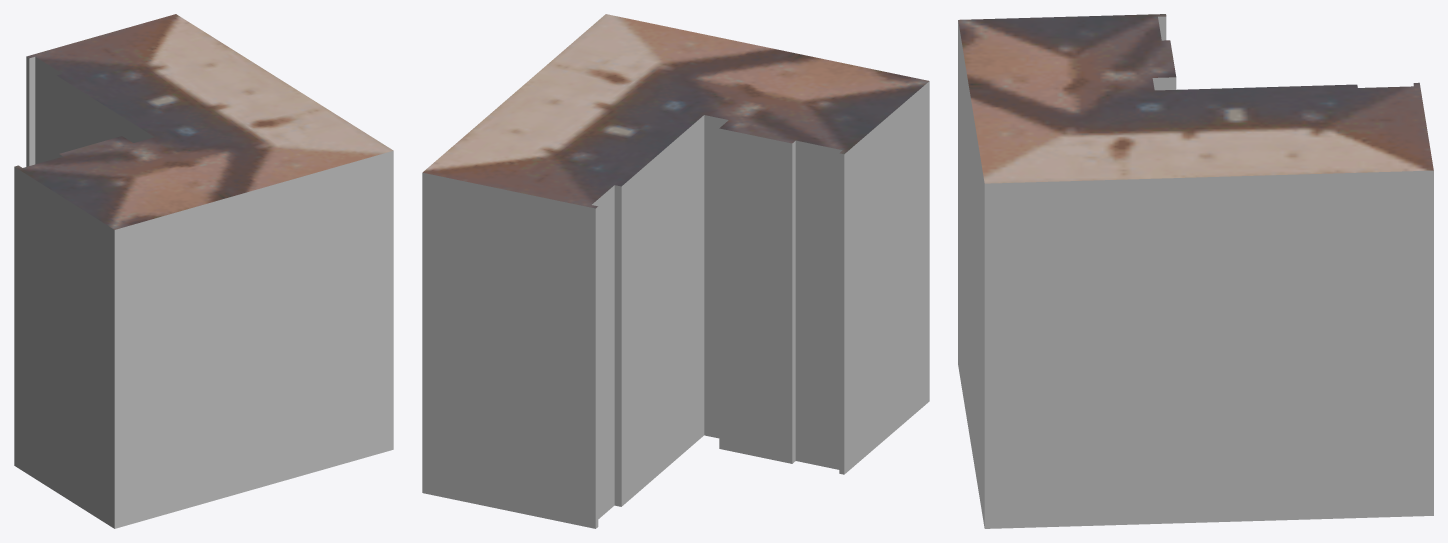
Rendered from DEBW_0010007Tx6o.gltf.
The picture shows the model from 3 angles, left to right: view 1: azimuth 30°, elevation 25°; view 2: azimuth 150°, elevation 25°; view 3: azimuth 270°, elevation 25°; orthographic projection. The views are drawn at different scales.
Visible parts, largest first — view 1: Z_UP; view 2: Z_UP; view 3: Z_UP.
Part boxes in pixels (x1,y1,x2,y2): Z_UP: (14,14,393,528); Z_UP: (422,14,929,528); Z_UP: (958,14,1433,528).
Size of the model in its own units: 18.77 by 17.81 by 22.24.
Materials: 2 (1 with a texture image).
